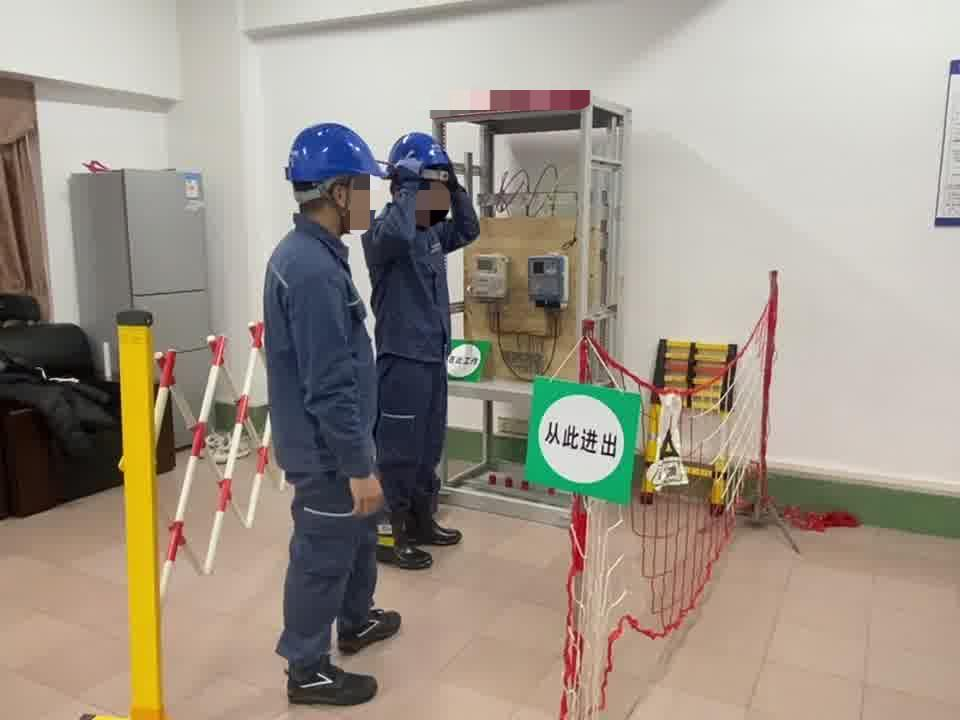halt: (286, 123, 388, 239)
inear: (321, 178, 360, 233)
